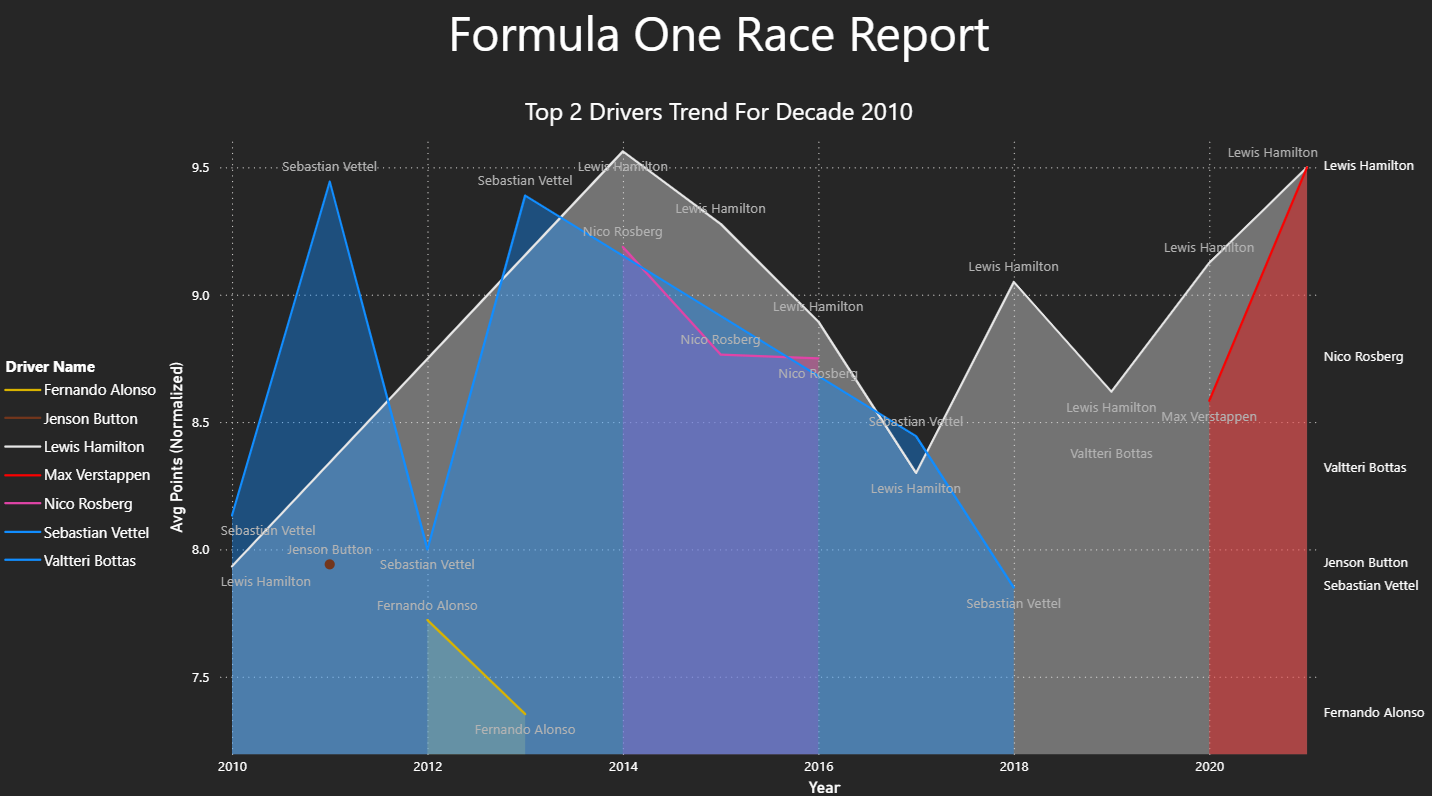

Layout of this report page (visuals, bound fields, positions):
{"tool":"powerbi","page":{"name":"Trend_driver","canvas":[1280,720],"ordinal":1},"visuals":[{"type":"textbox","box":[0,0,1280.3,89.3],"z":0},{"type":"areaChart","title":"Top 2 Drivers Trend For Decade 2010 ","fields":{"Category":["DimYear.YearKey"],"Y":["driver_trend.avg_points"],"Series":["driver_trend.driver_name"]},"box":[0,89.3,1280,631],"z":1000}]}

Visuals, with their boxes in screenshot pixels (x1, y1, x2, y2), scaled from the page's 1280x720 canvas onto the 1432x796 screenshot:
textbox: [0, 0, 1431, 99]
"Top 2 Drivers Trend For Decade 2010 " areaChart: [0, 99, 1431, 795]
